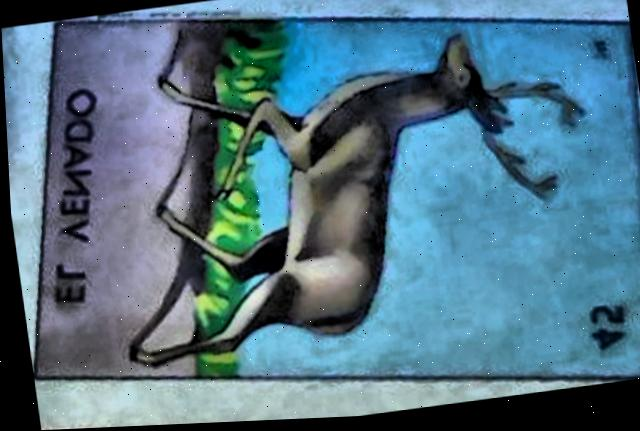El Venado: (31, 24, 640, 381)
